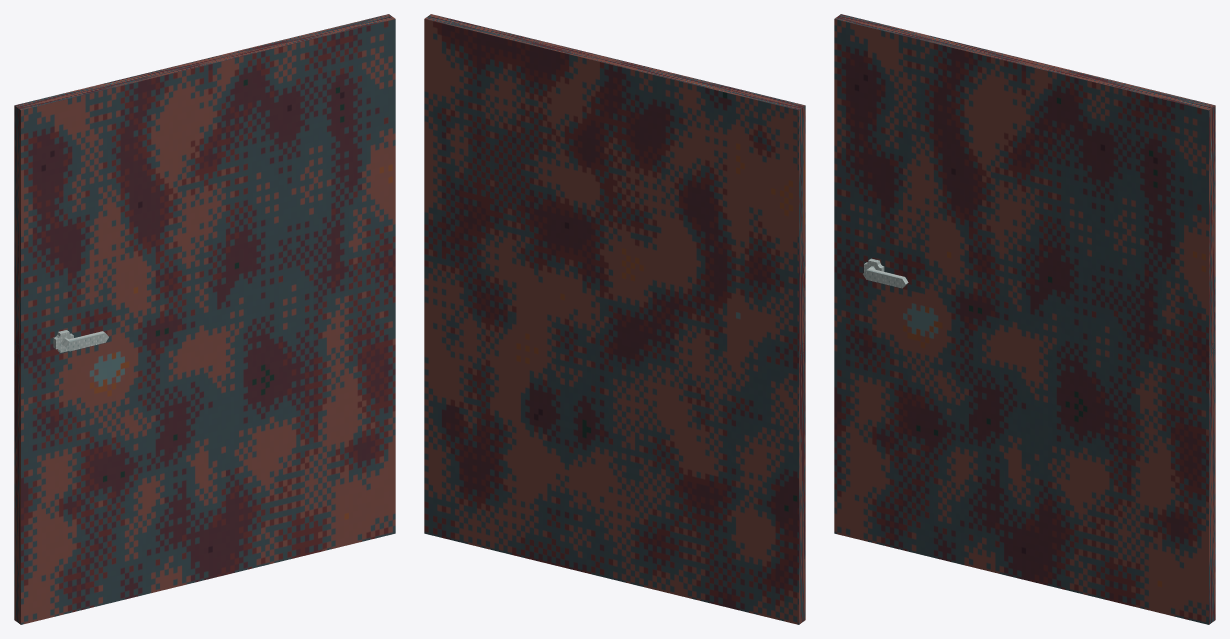
File: office_door.glb
3 renders of one model, left to right at view 1: azimuth 30°, elevation 25°; view 2: azimuth 150°, elevation 25°; view 3: azimuth 330°, elevation 25°, orthographic.
Parts seen in each view (by area): view 1: Cube, Cube.001; view 2: Cube; view 3: Cube, Cube.001.
Boxes of the visible parts, box(x1,y1,x2,y2) form: Cube: box(14, 14, 395, 624); Cube.001: box(53, 330, 108, 352); Cube: box(424, 14, 805, 624); Cube: box(834, 14, 1215, 624); Cube.001: box(863, 258, 908, 288).
Size of the model in its own units: 3.2 by 4.2 by 0.2229.
Materials: 2 (2 with a texture image).
